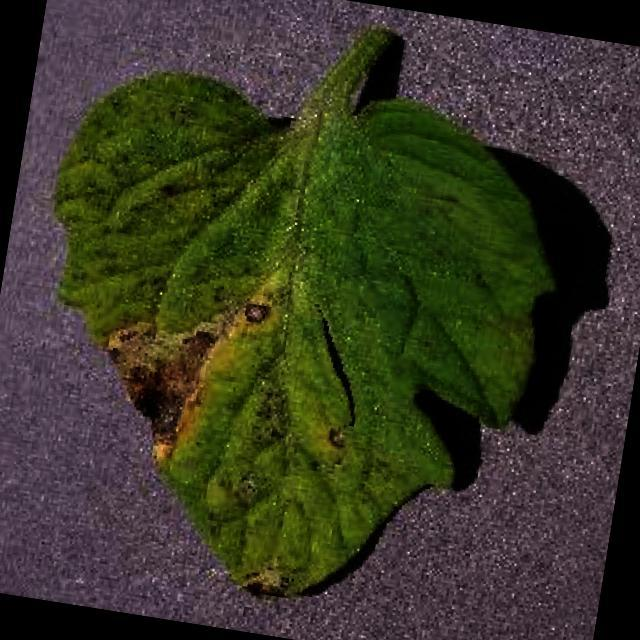Tomato Septoria spot leaf: (0, 50, 585, 636)
